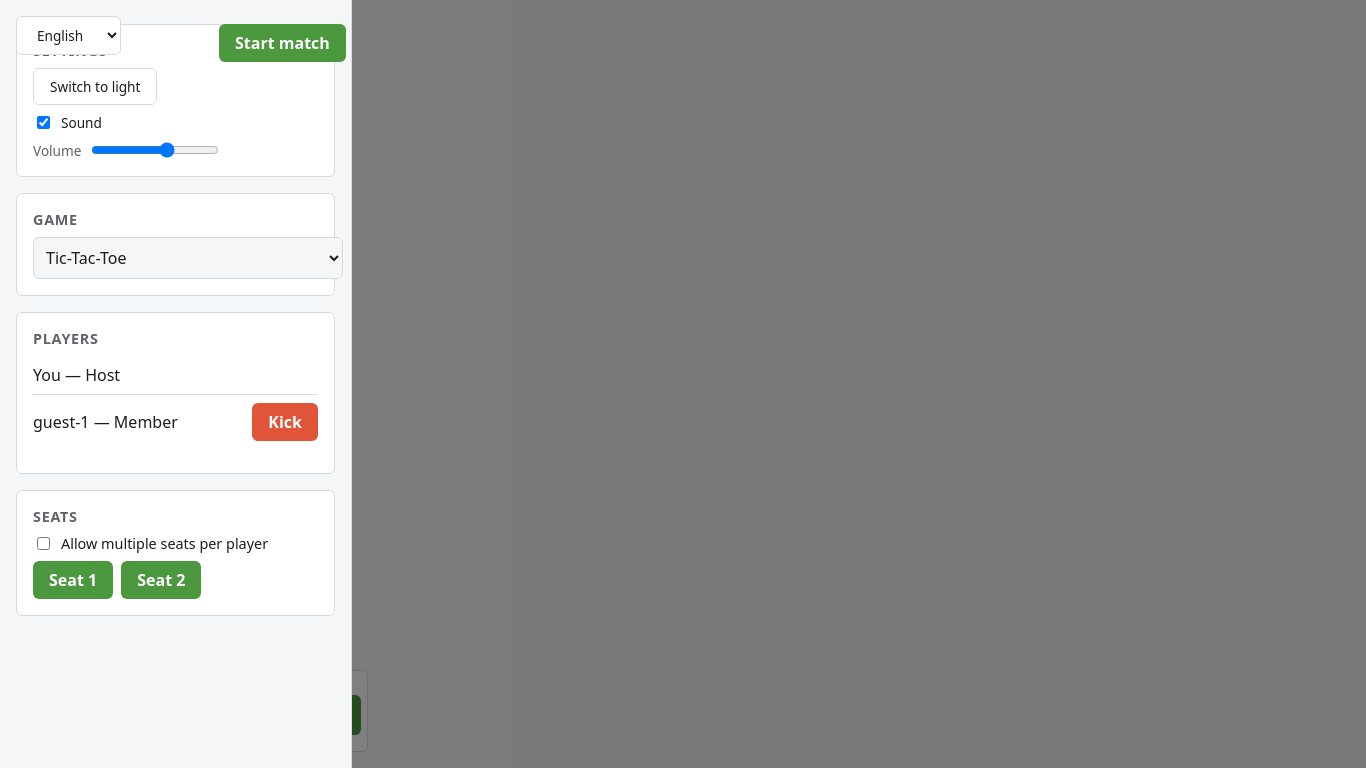
Test: RoomShell › surfaces a failed seat claim without discarding the room chrome
Expected: the button "Room menu" is shown, [16,16,128,53]
Click the button "Seat 1".
click(73, 580)  # box [33,561,113,599]
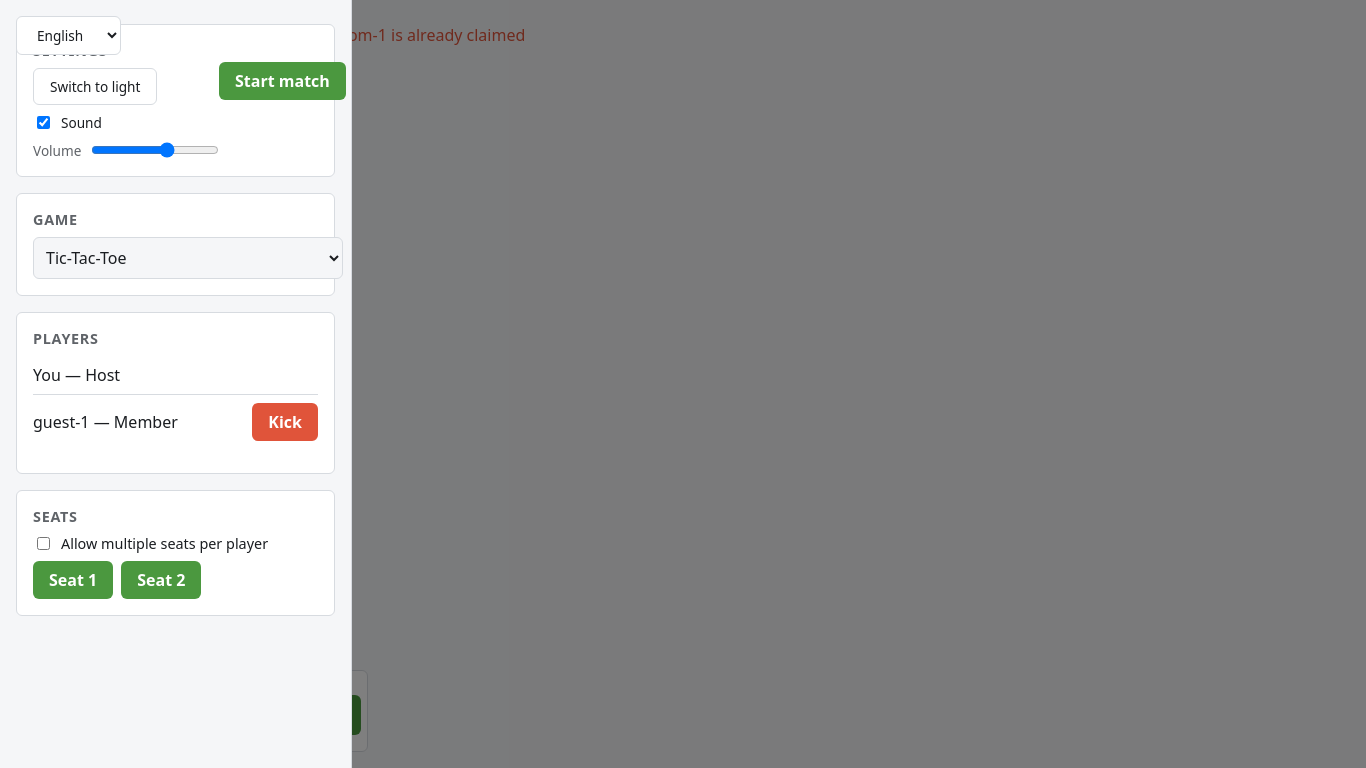
Expected: the button "Room menu" is shown, [16,16,128,53]
Expected: the message shows "already claimed", [219,24,525,46]
